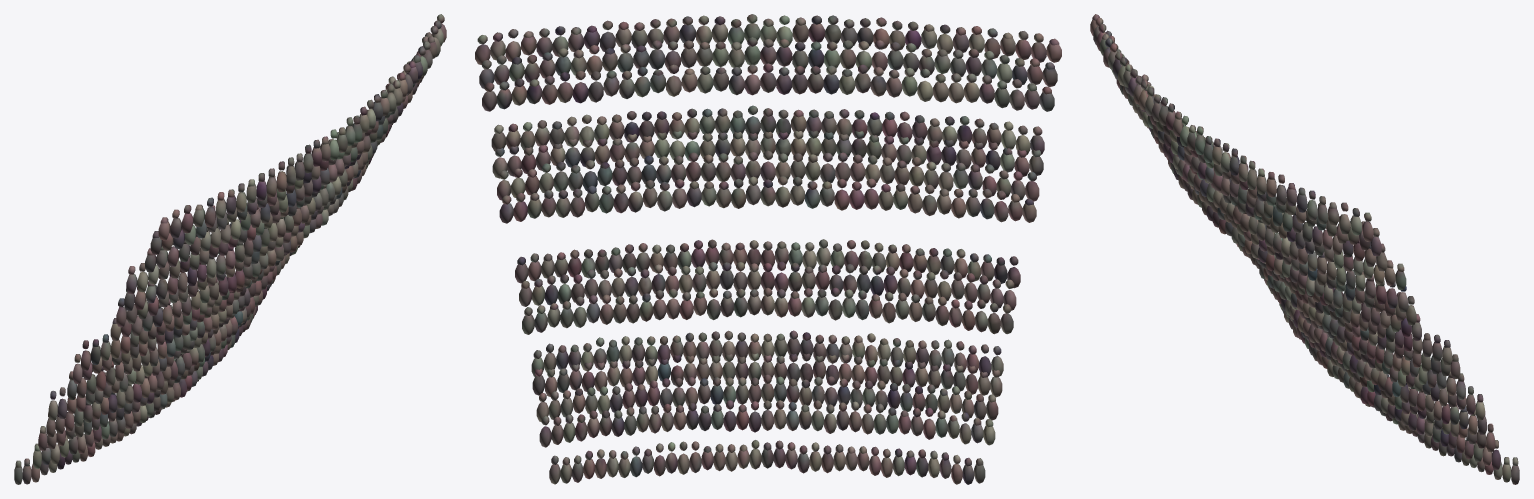
The model's file is audience member.fbx.
The picture shows the model from 3 angles, left to right: view 1: azimuth 30°, elevation 25°; view 2: azimuth 150°, elevation 25°; view 3: azimuth 270°, elevation 25°; orthographic projection. The views are drawn at different scales.
Parts seen in each view (by area): view 1: Sphere.651; view 2: Sphere.651; view 3: Sphere.651.
Part boxes in pixels (box(x1,y1,x2,y2)): Sphere.651: box(14, 14, 446, 484); Sphere.651: box(475, 14, 1061, 484); Sphere.651: box(1090, 14, 1519, 484).
Bounding box in the file's own units: 263 × 190 × 213.
